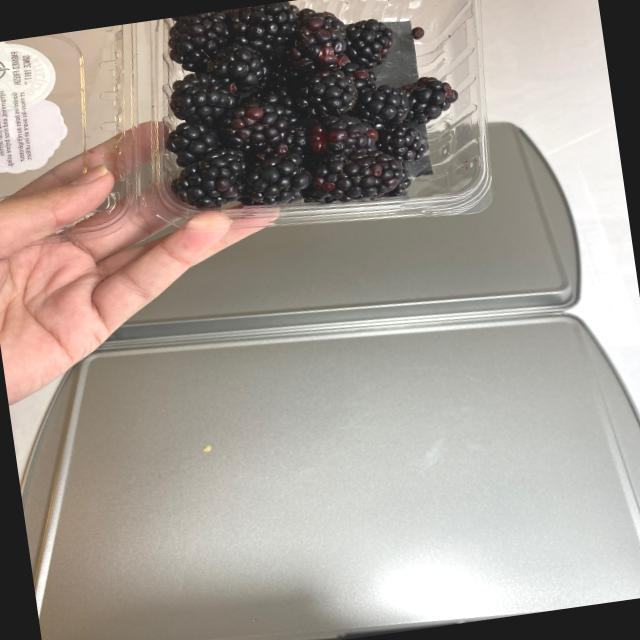blackberries: (138, 0, 503, 227)
